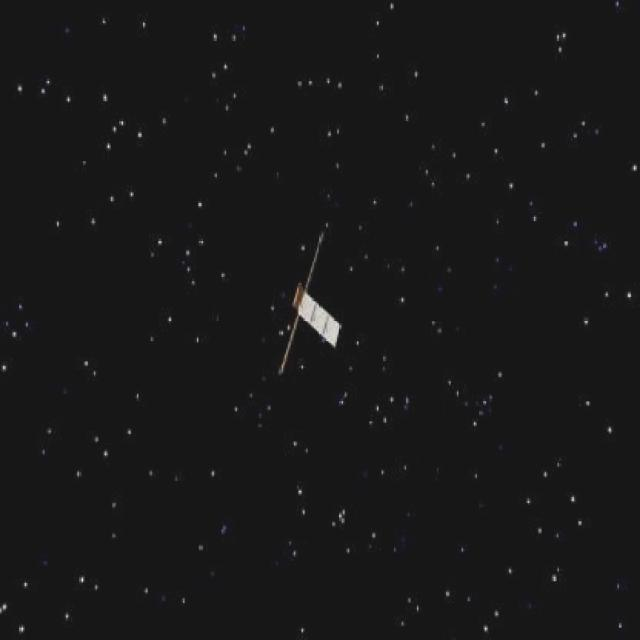medium_debris: (265, 229, 346, 394)
